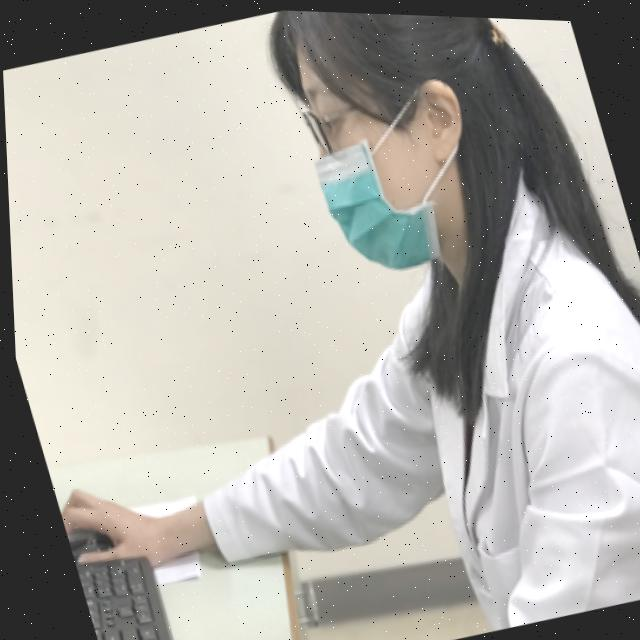Mask: (291, 58, 500, 286)
